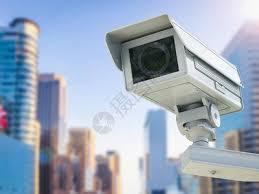Monitor: (97, 15, 253, 147)
